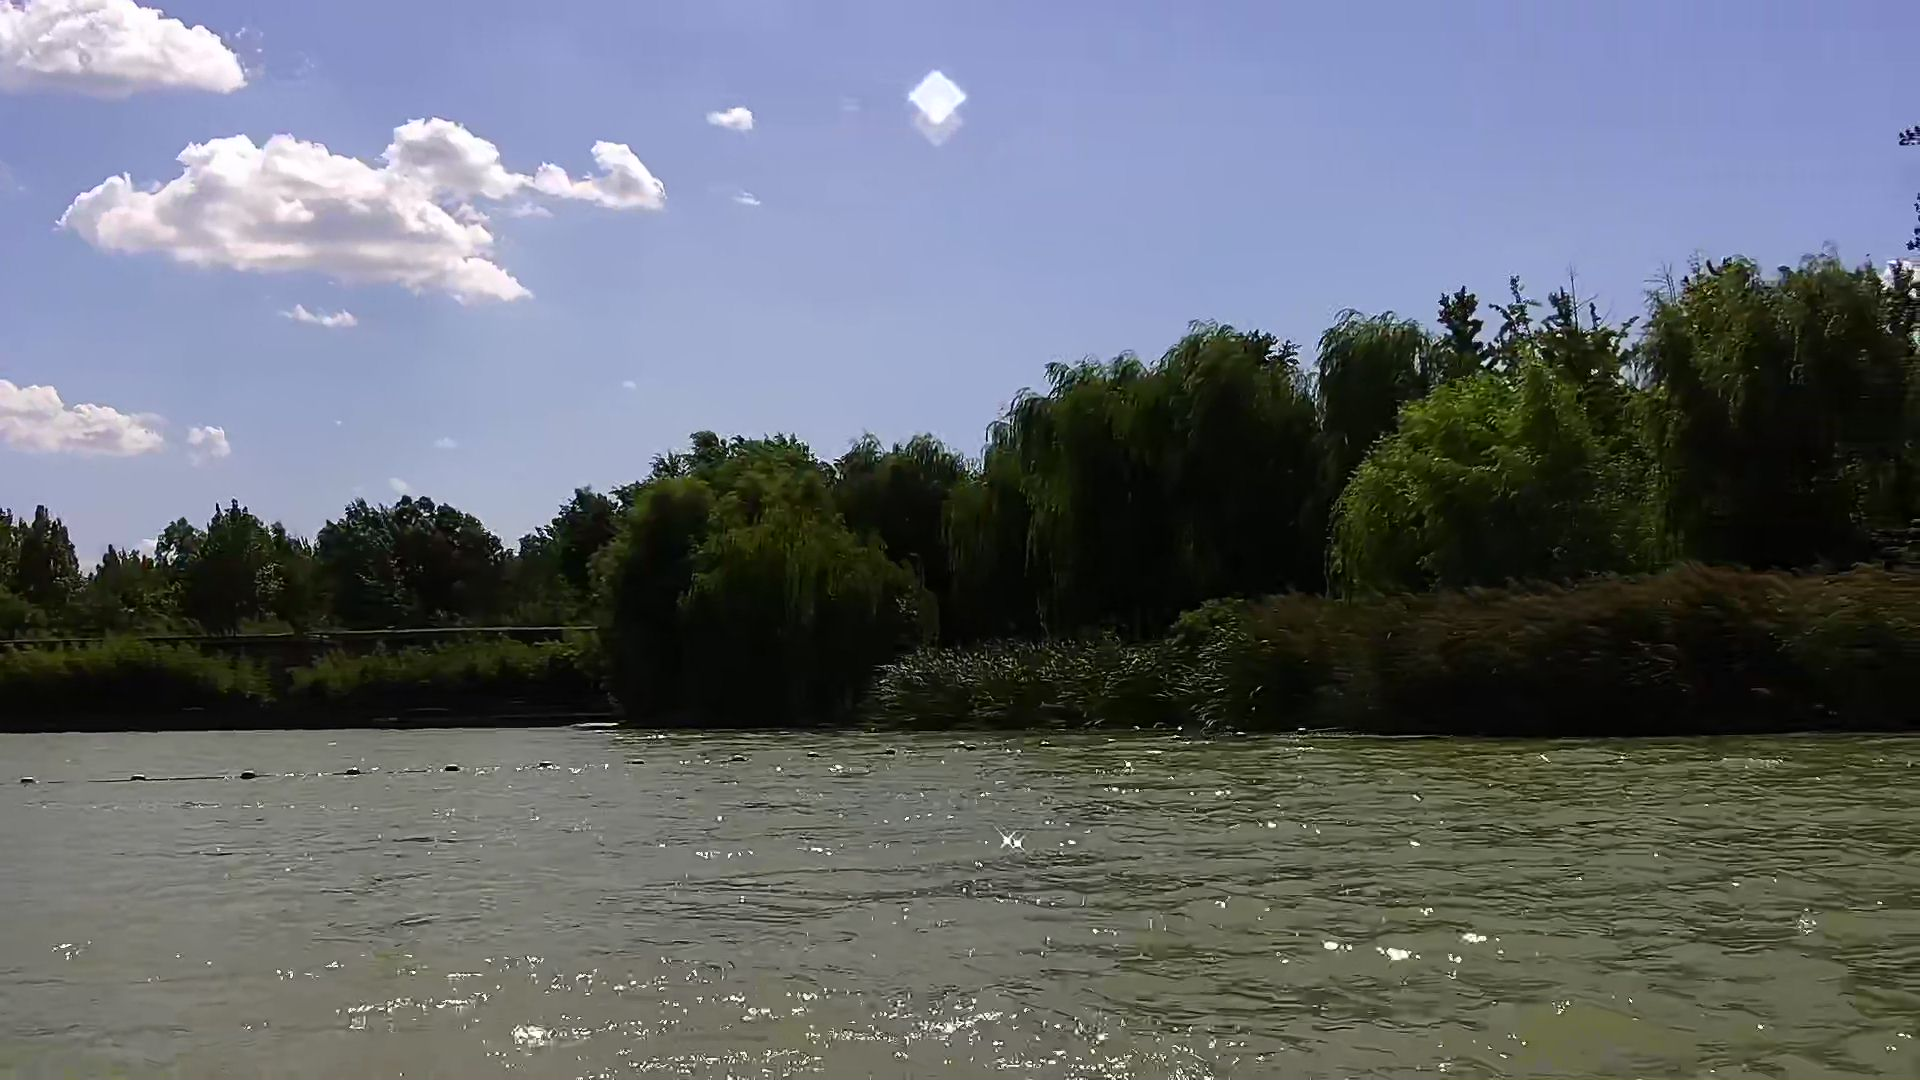ball: (11, 765, 44, 789), (232, 765, 262, 789), (438, 760, 469, 777), (342, 765, 368, 781)
